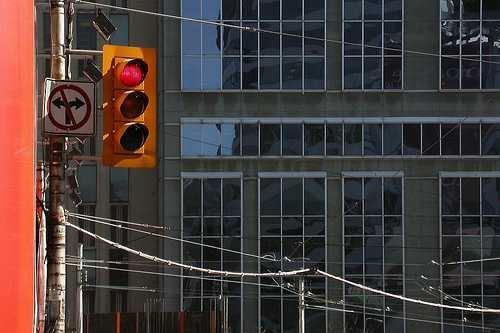red: (110, 53, 150, 157), (111, 52, 147, 90)
